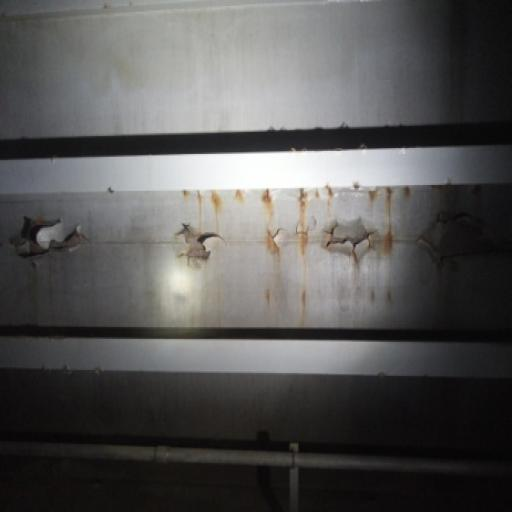Detect-rust-on-metal-surfaces: (406, 200, 494, 275), (6, 204, 109, 265), (311, 210, 390, 268), (167, 217, 236, 269), (253, 182, 283, 298), (296, 186, 310, 326)
